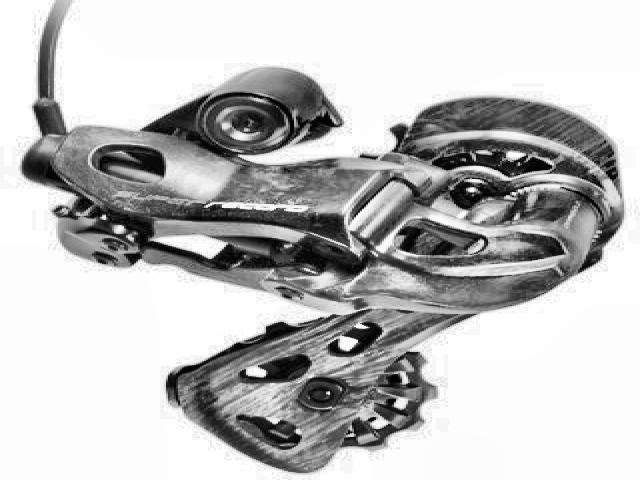rear_derailleur: (9, 61, 627, 476)
